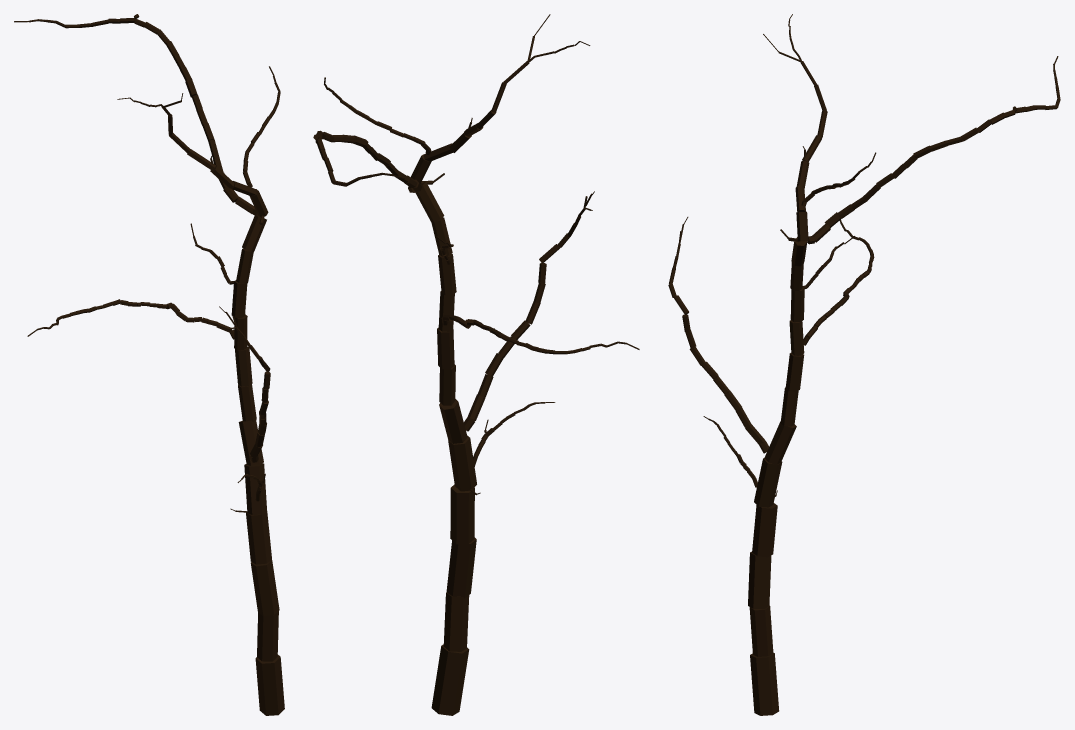
The model's file is tree_534_no_leaf.obj.
The picture shows the model from 3 angles, left to right: view 1: azimuth 30°, elevation 25°; view 2: azimuth 150°, elevation 25°; view 3: azimuth 270°, elevation 25°; orthographic projection. The views are drawn at different scales.
Parts seen in each view (by area): view 1: TrunkAndBranches; view 2: TrunkAndBranches; view 3: TrunkAndBranches.
Boxes of the visible parts, box(x1,y1,x2,y2) form: TrunkAndBranches: box(14, 14, 284, 715); TrunkAndBranches: box(313, 14, 639, 715); TrunkAndBranches: box(668, 14, 1060, 715).
Size of the model in its own units: 4.74 by 11.02 by 6.16.
